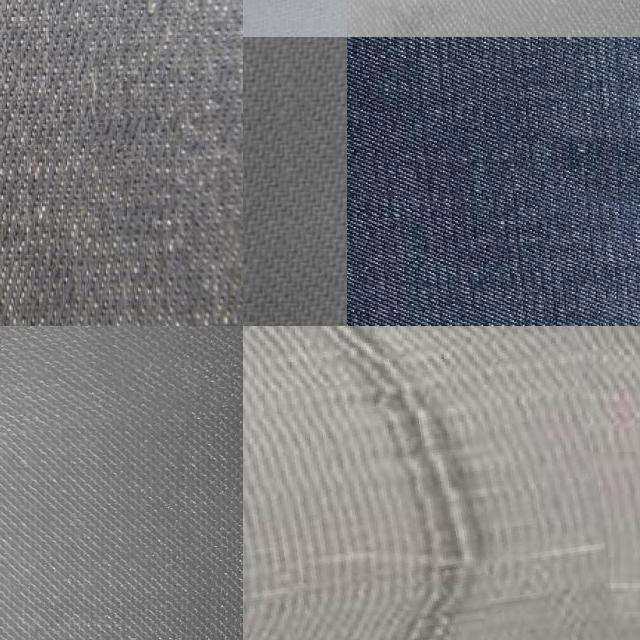Thread_other: (0, 326, 243, 465)
stains: (243, 326, 618, 640)
